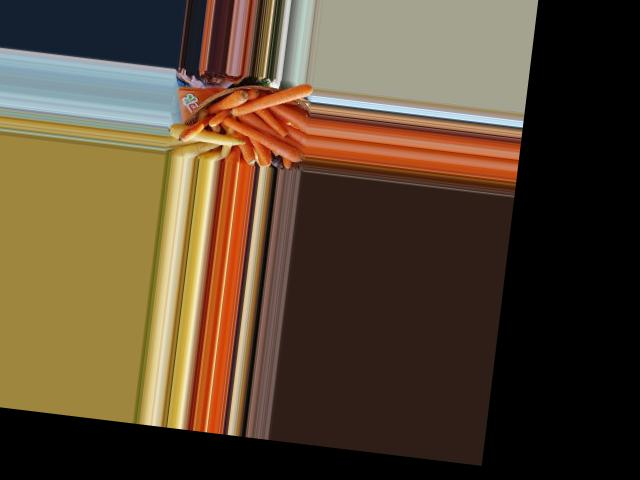carrot: (201, 82, 246, 117)
